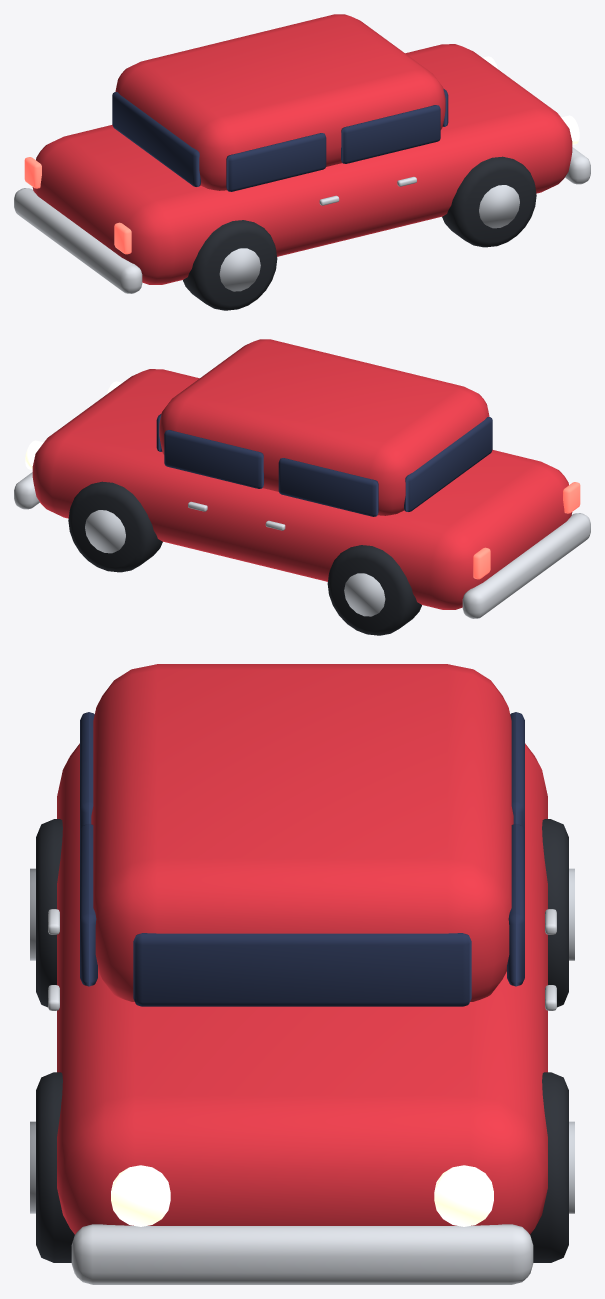
Rendered from car-C43cl4cW.glb.
3 renders of one model, top to bottom at view 1: azimuth 30°, elevation 25°; view 2: azimuth 150°, elevation 25°; view 3: azimuth 270°, elevation 25°, orthographic. The views are drawn at different scales.
Parts seen in each view (by area): view 1: car; view 2: car; view 3: car.
Boxes of the visible parts, box(x1,y1,x2,y2) form: car: box(14, 14, 590, 310); car: box(14, 339, 590, 635); car: box(30, 664, 574, 1284).
Size of the model in its own units: 1.81 by 0.63 by 0.91.
